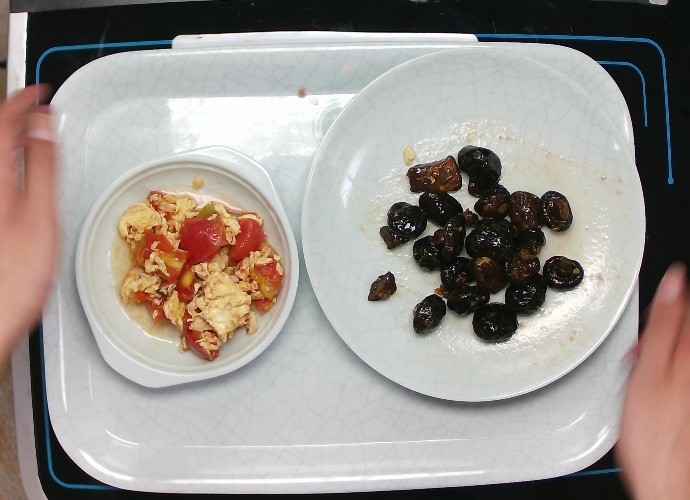JYsf-Da_Yuan_Pan: (297, 42, 649, 406)
JYsf-Shuang_Er_Pan: (69, 141, 301, 393)
